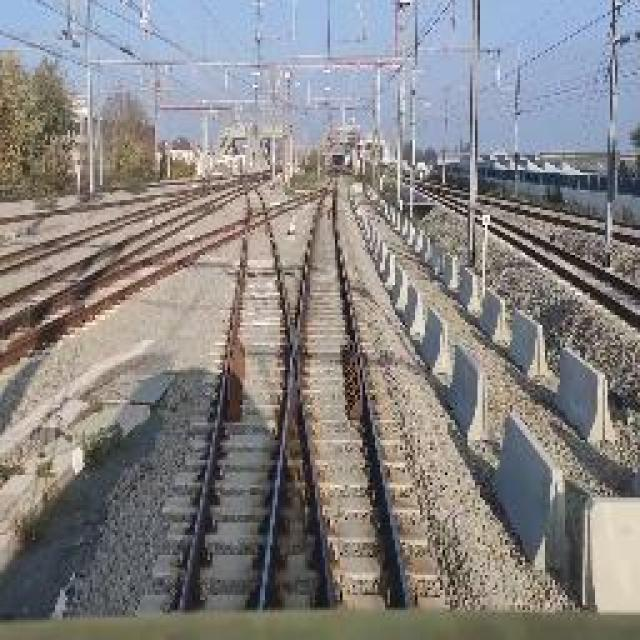rail: (109, 173, 460, 613)
